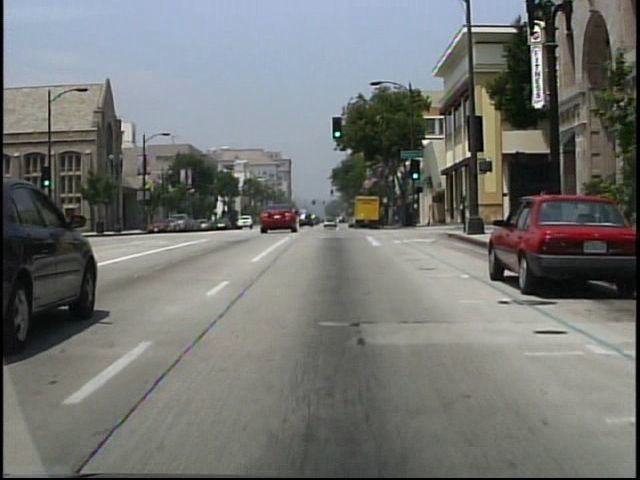person: (460, 199, 466, 226)
